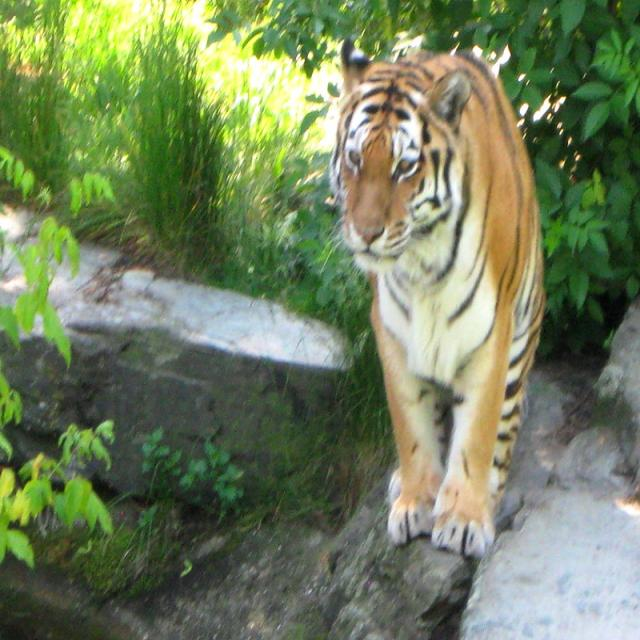Tiger: (330, 31, 545, 564)
